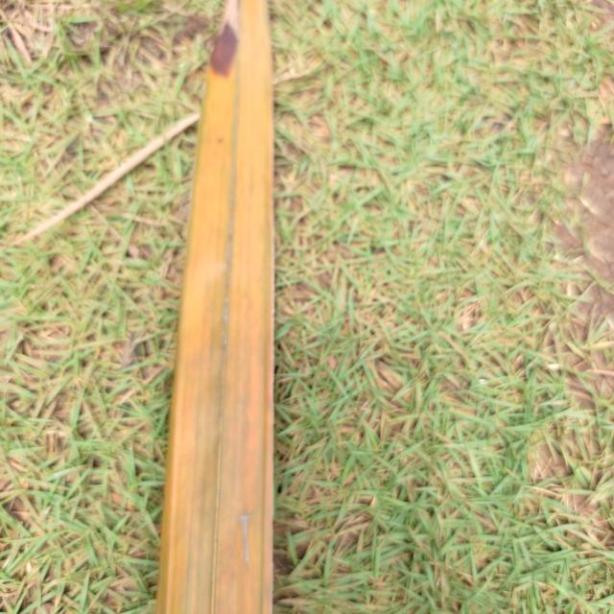Megnesium: (160, 0, 275, 614)
